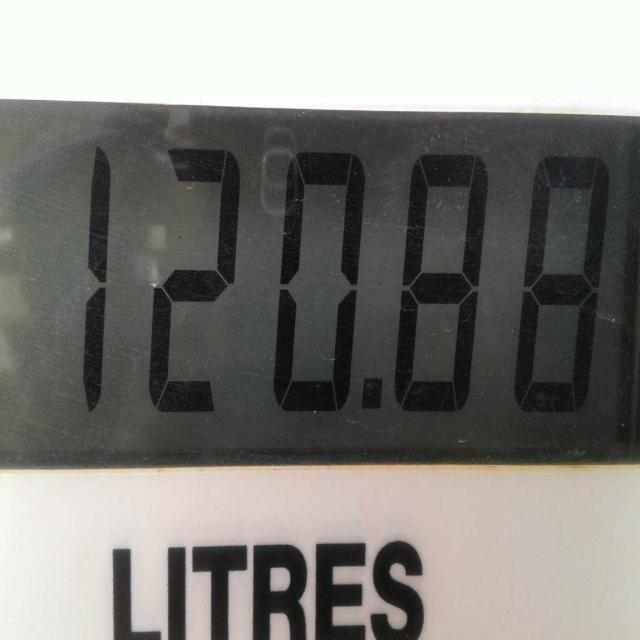.: (348, 356, 391, 438)
0: (278, 154, 357, 411)
1: (82, 147, 120, 421)
2: (152, 148, 234, 414)
8: (396, 153, 488, 417), (516, 163, 607, 413)
